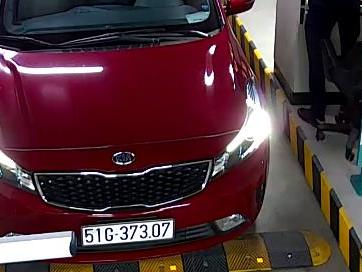number: (81, 220, 175, 246)
